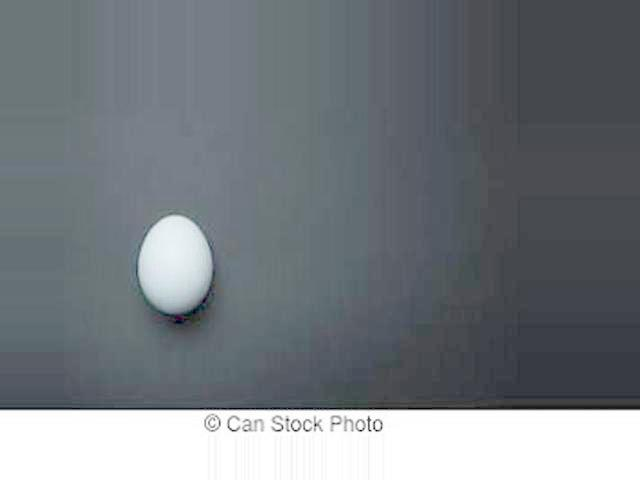egg: (136, 214, 212, 313)
